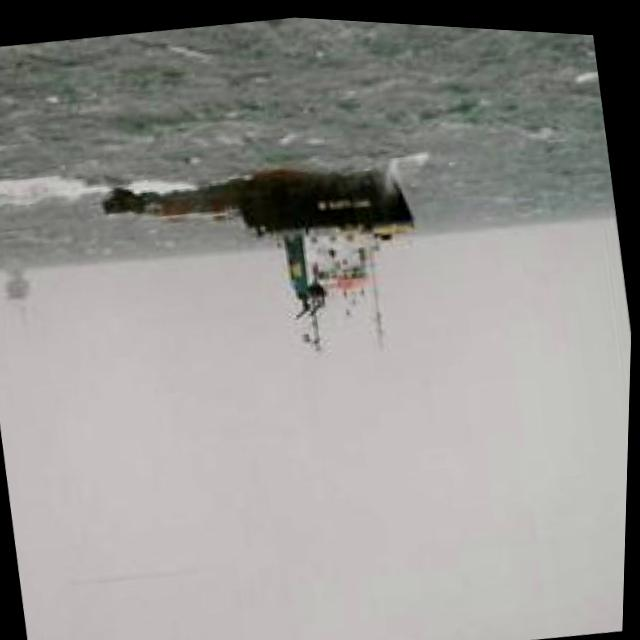ship2: (106, 163, 417, 338)
